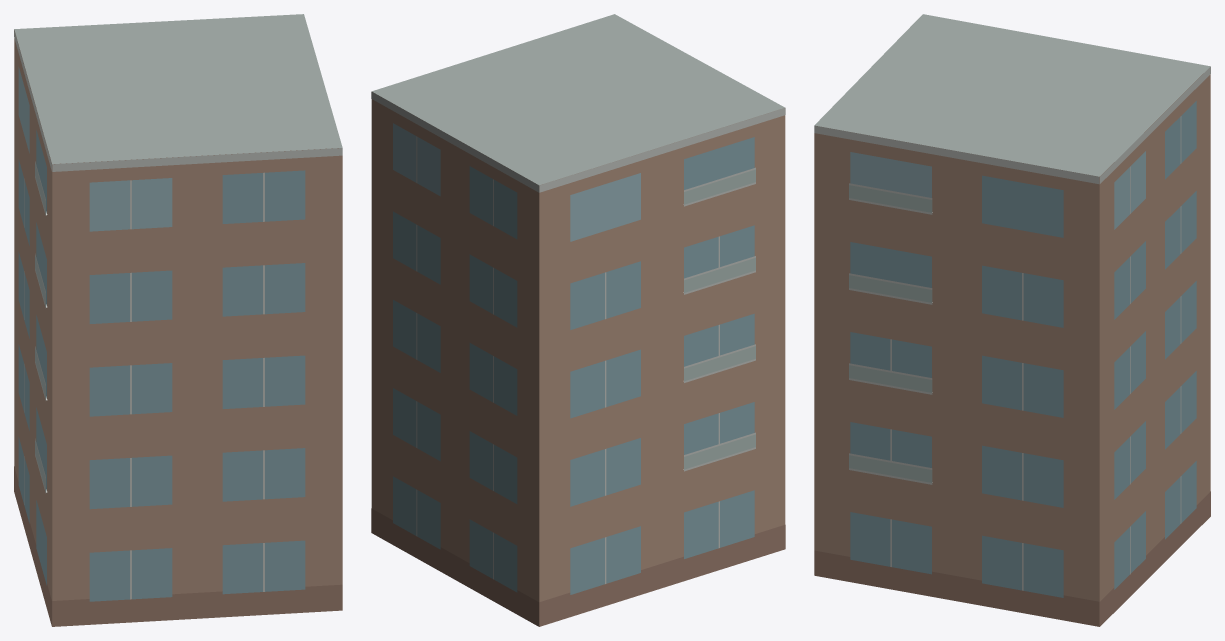
File: survey-upis-32975298.glb
The picture shows the model from 3 angles, left to right: view 1: azimuth 30°, elevation 25°; view 2: azimuth 150°, elevation 25°; view 3: azimuth 270°, elevation 25°; orthographic projection. The views are drawn at different scales.
Visible parts, largest first — view 1: survey-upis-32975298.tmp; view 2: survey-upis-32975298.tmp; view 3: survey-upis-32975298.tmp.
Part boxes in pixels (left/top/right/bottom): survey-upis-32975298.tmp: left=14, top=14, right=342, bottom=626; survey-upis-32975298.tmp: left=371, top=14, right=785, bottom=626; survey-upis-32975298.tmp: left=814, top=14, right=1210, bottom=626.
Bounding box in the file's own units: 11.21 × 14.45 × 11.54.
